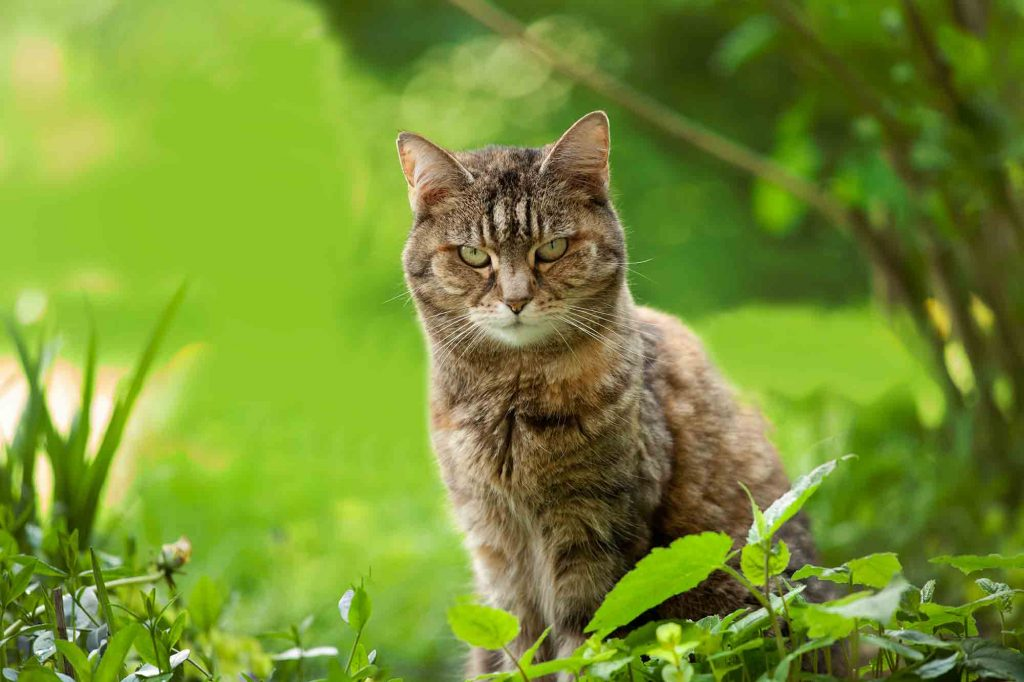Cat: (366, 90, 837, 642)
